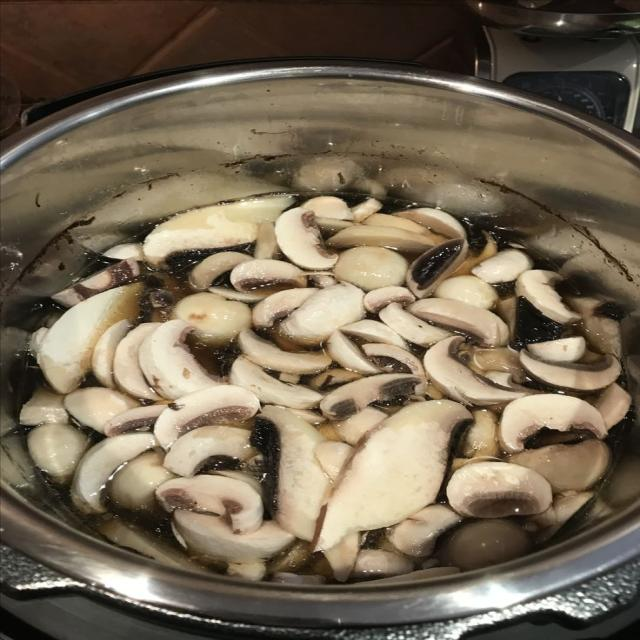champignon mushrooms: (316, 401, 471, 549), (38, 283, 141, 394), (144, 196, 293, 268), (251, 407, 329, 540), (424, 336, 531, 405), (154, 385, 259, 450), (72, 433, 157, 513), (174, 510, 294, 563), (139, 320, 219, 399), (156, 475, 263, 534), (500, 395, 606, 452), (447, 462, 552, 518), (97, 519, 205, 572), (509, 440, 611, 491), (280, 283, 365, 344), (229, 357, 322, 409), (408, 299, 508, 347), (320, 374, 423, 420), (438, 520, 532, 570), (164, 425, 255, 476), (52, 259, 140, 307), (173, 292, 251, 346), (520, 350, 621, 391), (237, 330, 331, 374), (275, 207, 338, 270), (108, 451, 175, 510), (386, 505, 461, 557), (27, 423, 88, 484), (407, 238, 467, 298), (114, 323, 160, 400), (525, 492, 593, 543), (516, 270, 580, 324), (64, 387, 139, 433), (498, 297, 564, 349), (334, 246, 407, 291), (567, 297, 621, 357), (379, 303, 451, 346), (327, 226, 432, 253), (91, 320, 133, 387), (252, 288, 317, 327), (293, 155, 363, 191), (452, 219, 497, 275), (364, 214, 445, 245), (230, 260, 306, 292), (327, 330, 380, 375), (189, 252, 251, 290), (434, 275, 498, 309), (394, 208, 466, 238), (362, 343, 425, 377), (472, 249, 533, 284), (104, 404, 166, 437), (334, 407, 387, 444), (459, 410, 499, 457), (340, 320, 406, 348), (469, 348, 525, 381), (20, 388, 68, 426), (324, 532, 359, 581), (352, 550, 413, 578), (595, 383, 631, 429), (368, 566, 460, 584), (527, 336, 586, 362), (315, 441, 352, 482), (267, 540, 312, 572), (364, 286, 415, 313), (300, 196, 353, 220), (309, 368, 362, 391), (207, 286, 269, 303), (254, 222, 279, 259), (227, 562, 266, 581), (316, 217, 353, 237), (352, 198, 382, 222), (103, 243, 144, 260), (272, 573, 326, 585), (28, 327, 48, 356), (308, 273, 338, 288)
